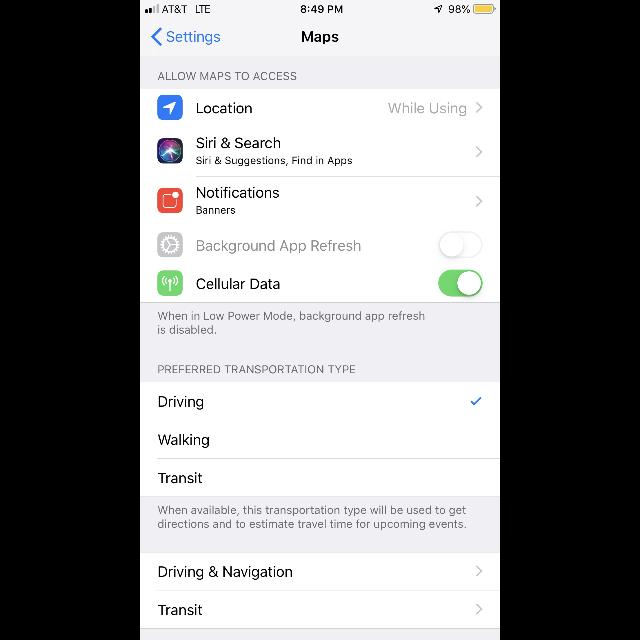icon: (158, 232, 182, 258), (158, 96, 182, 120), (152, 28, 162, 46), (471, 397, 482, 405), (476, 146, 482, 158), (476, 101, 482, 112), (476, 196, 482, 207), (476, 566, 482, 576), (476, 604, 482, 614)
image: (158, 138, 182, 164), (158, 188, 182, 214), (158, 270, 182, 296)
switch: (439, 232, 483, 258), (438, 270, 482, 296)
text: (158, 506, 466, 530), (158, 312, 424, 334), (197, 240, 361, 254), (160, 566, 292, 580), (158, 365, 356, 373), (196, 156, 352, 166), (158, 72, 296, 80), (388, 103, 466, 117), (196, 278, 280, 290), (197, 186, 279, 198), (196, 138, 280, 148), (168, 31, 220, 45), (158, 434, 210, 448), (196, 102, 252, 114), (158, 396, 204, 410), (158, 604, 202, 616), (158, 472, 202, 483), (302, 32, 338, 44), (197, 206, 235, 214)
uppertaskbar: (140, 0, 500, 14)
